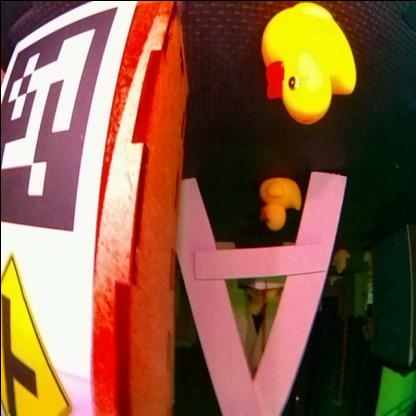Duckie: (260, 3, 354, 125), (258, 177, 300, 229)
Intersection sign: (1, 255, 74, 415)
QR code: (0, 7, 118, 234)
